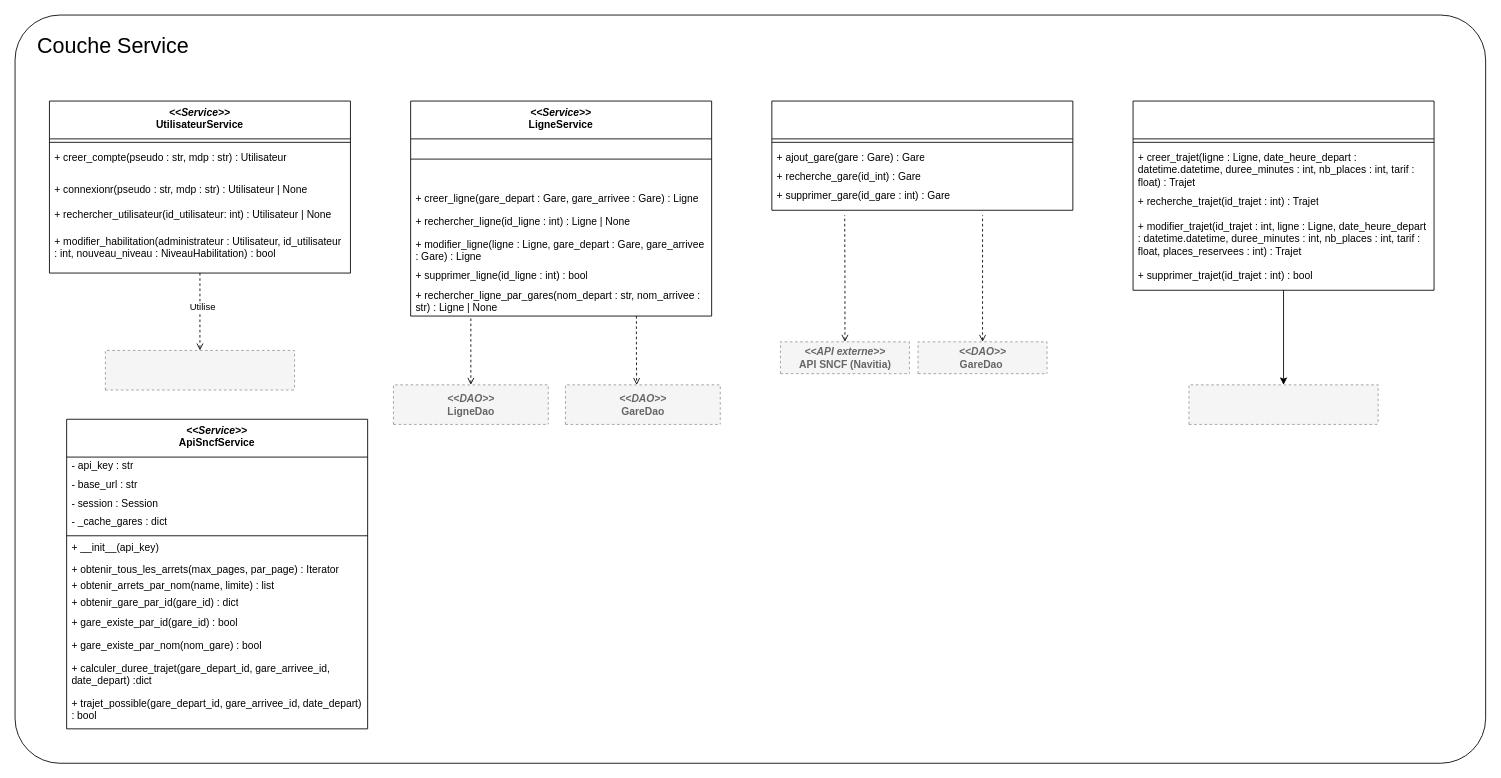
Image size: 1501x778. Some labels were removed from this diagram. Each missing label, with the box of its shape:
<<DAO>> TrajetDao: (1188, 384, 1378, 424)
<<DAO>> UtilisateurDao: (104, 350, 295, 390)
<<Service>> GareService: (771, 100, 1073, 210)
<<Service>> TrajetService: (1132, 100, 1434, 290)
